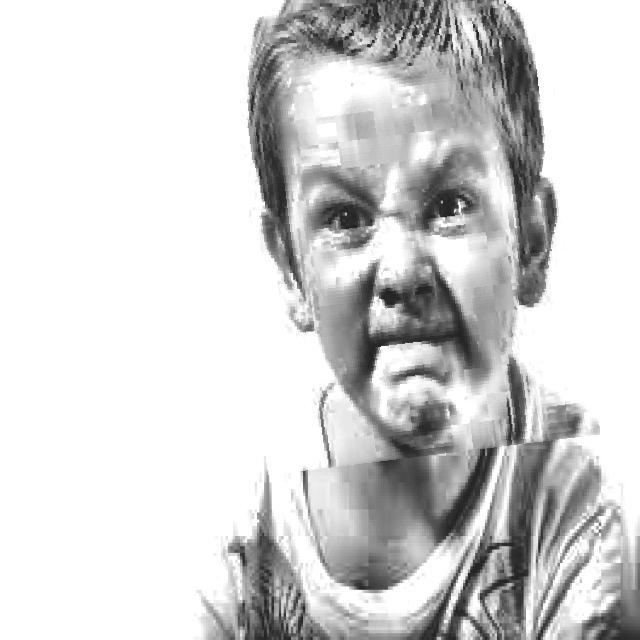angry: (225, 0, 587, 465)
